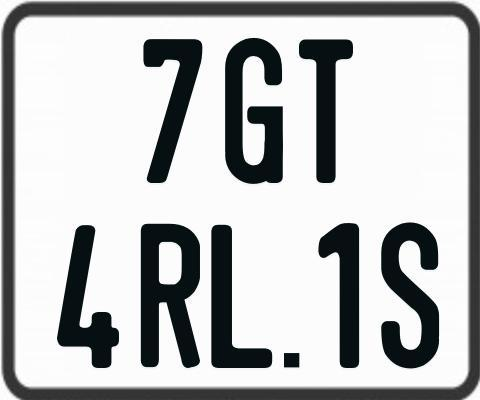1: (315, 223, 356, 370)
4: (54, 223, 117, 367)
7: (140, 39, 201, 183)
G: (222, 36, 280, 182)
L: (211, 222, 276, 371)
R: (141, 221, 203, 368)
S: (381, 220, 443, 365)
T: (297, 37, 351, 184)
